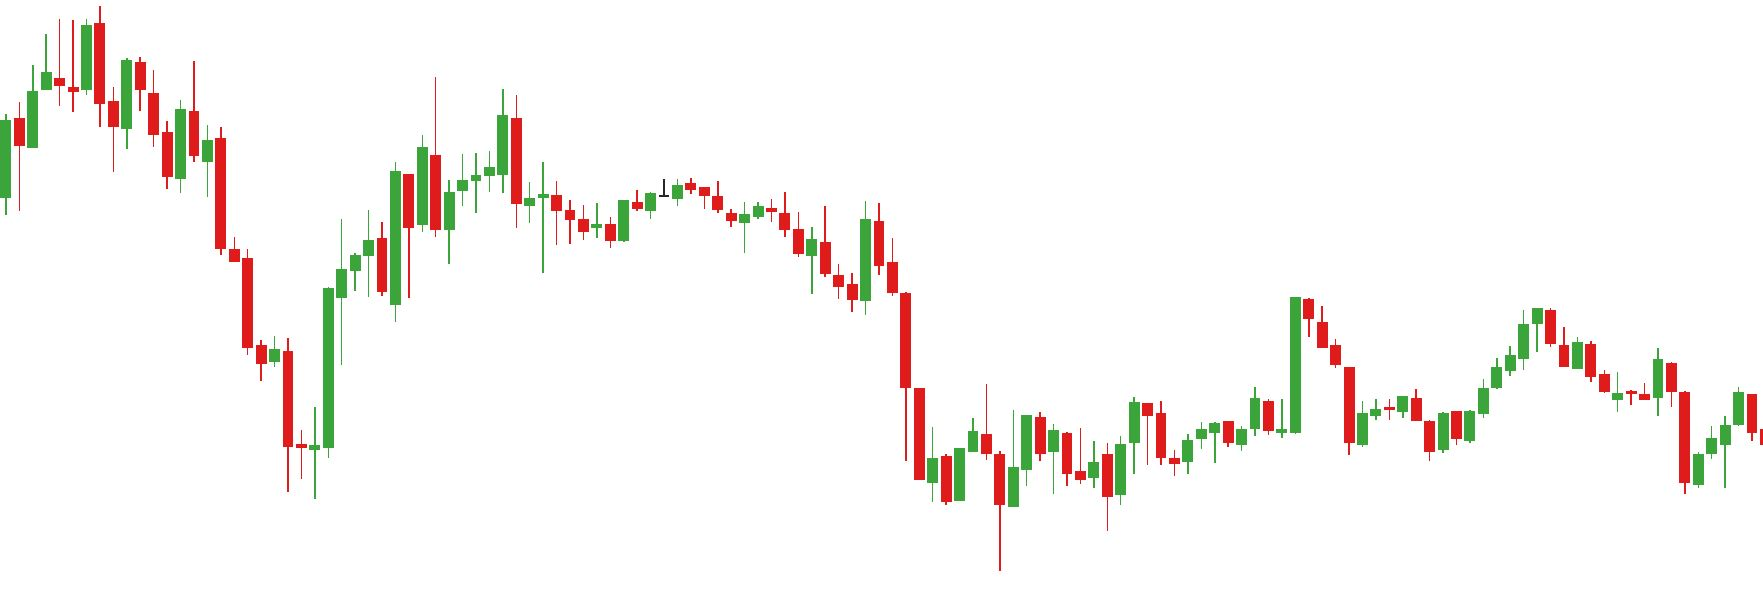buy: (925, 445, 1020, 577)
